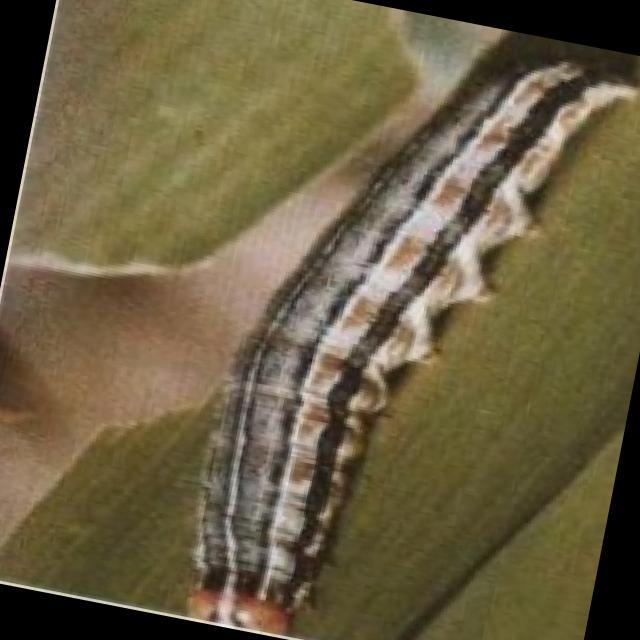Plaga: (147, 1, 640, 640)
